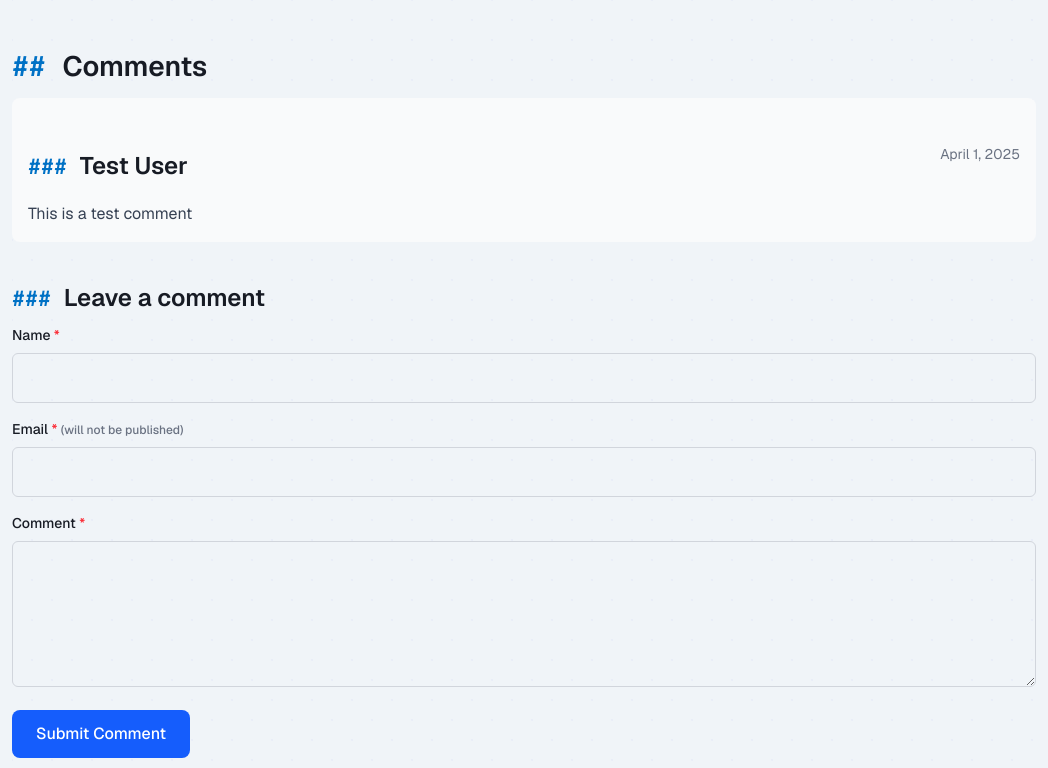
Scenario: Comments › submits the form with valid data
This screenshot has width=1048, height=768.
Fill out the form
Type "Jane Doe" into the field labelled "Name *" at (524, 378), box x1=12 y1=353 x2=1036 y2=403
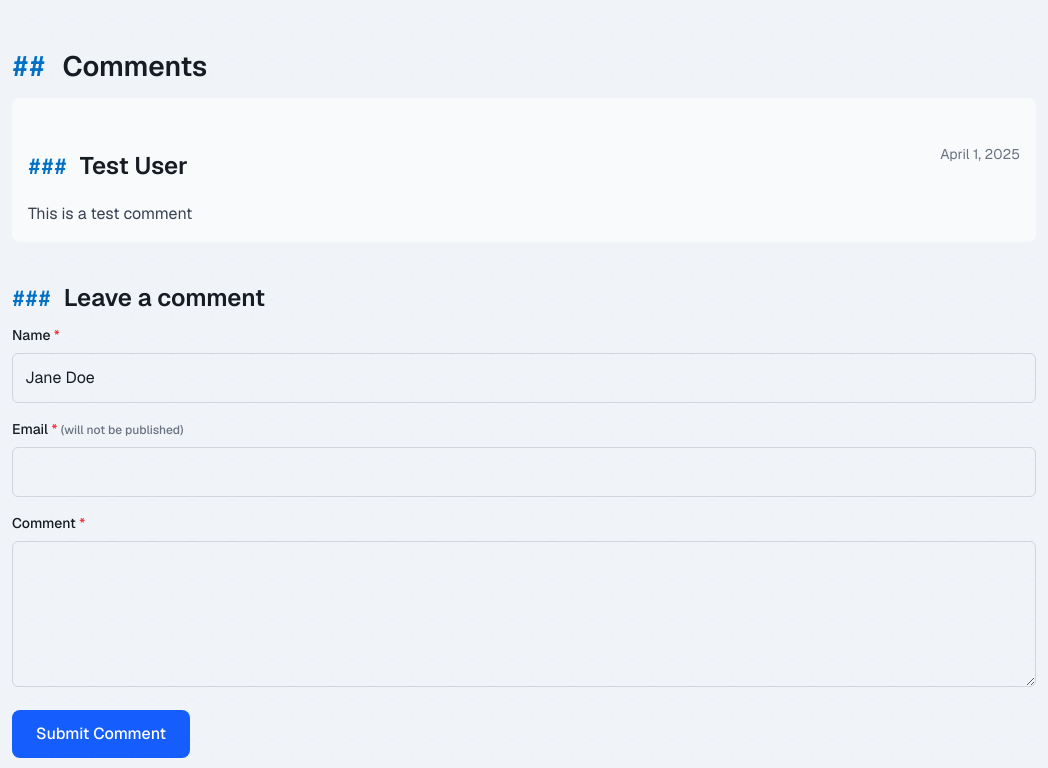
Type "jane@example.com" into the field labelled "Email * (will not be published)" at (524, 472), box x1=12 y1=447 x2=1036 y2=497
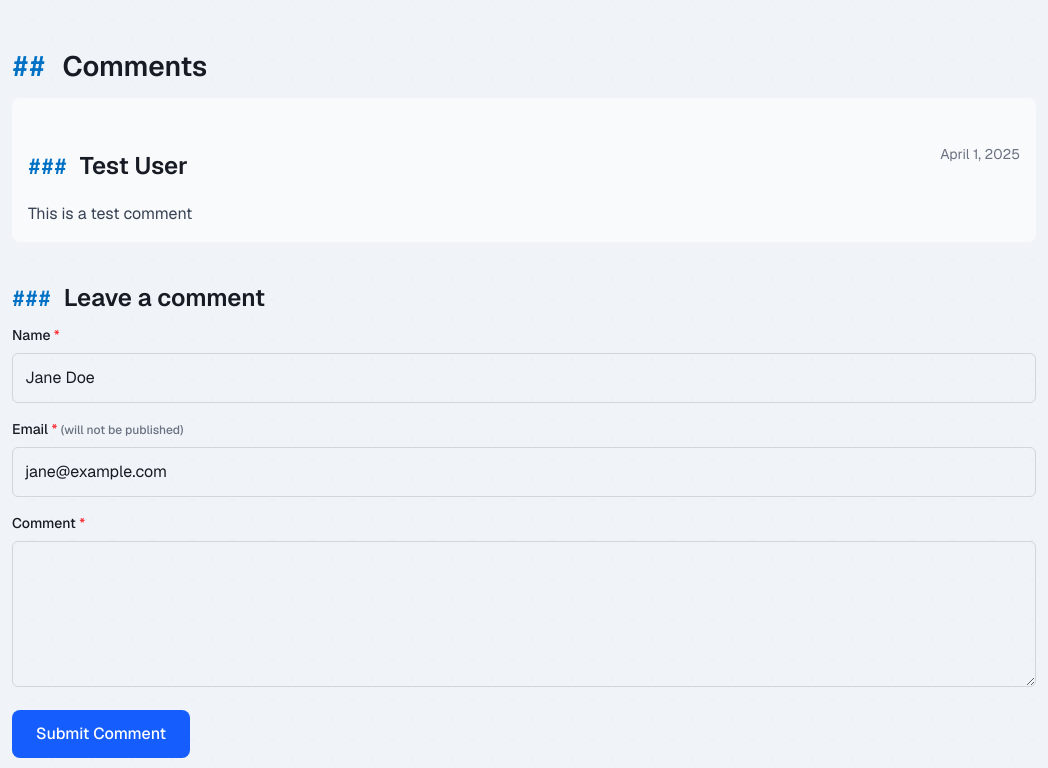
Type "This is a test comment submission." into the text box labelled "Comment *" at (524, 614), box x1=12 y1=541 x2=1036 y2=687
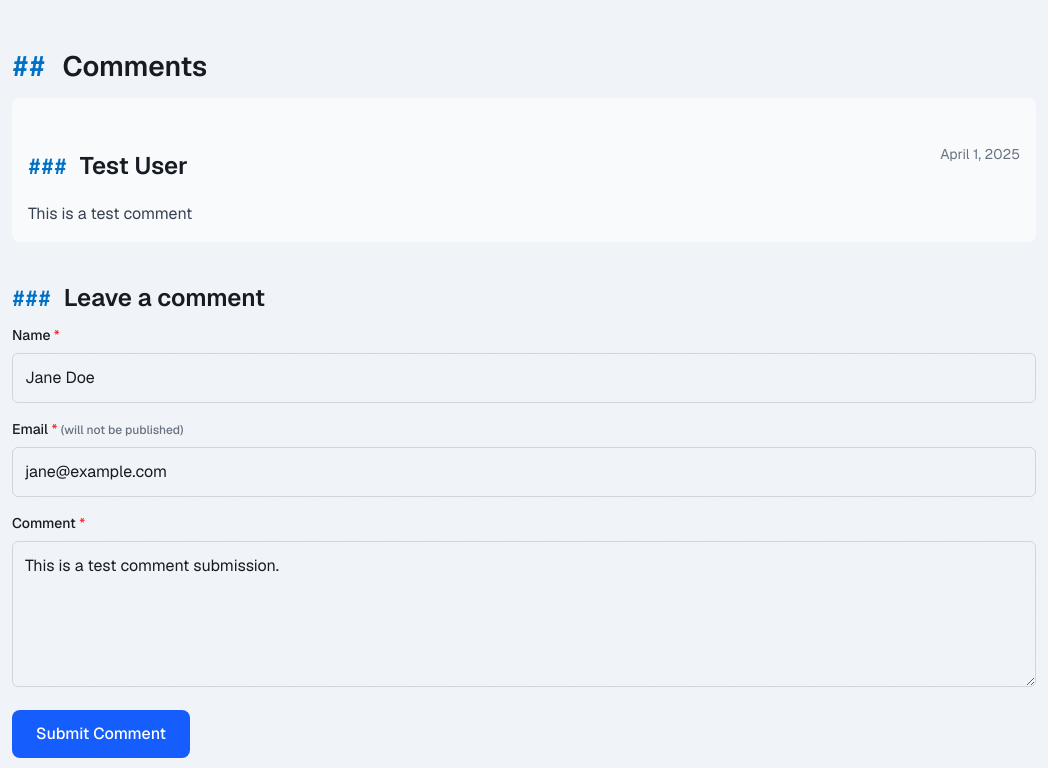
Submit the form
Click the button "Submit Comment" at (101, 734), box x1=12 y1=710 x2=190 y2=758
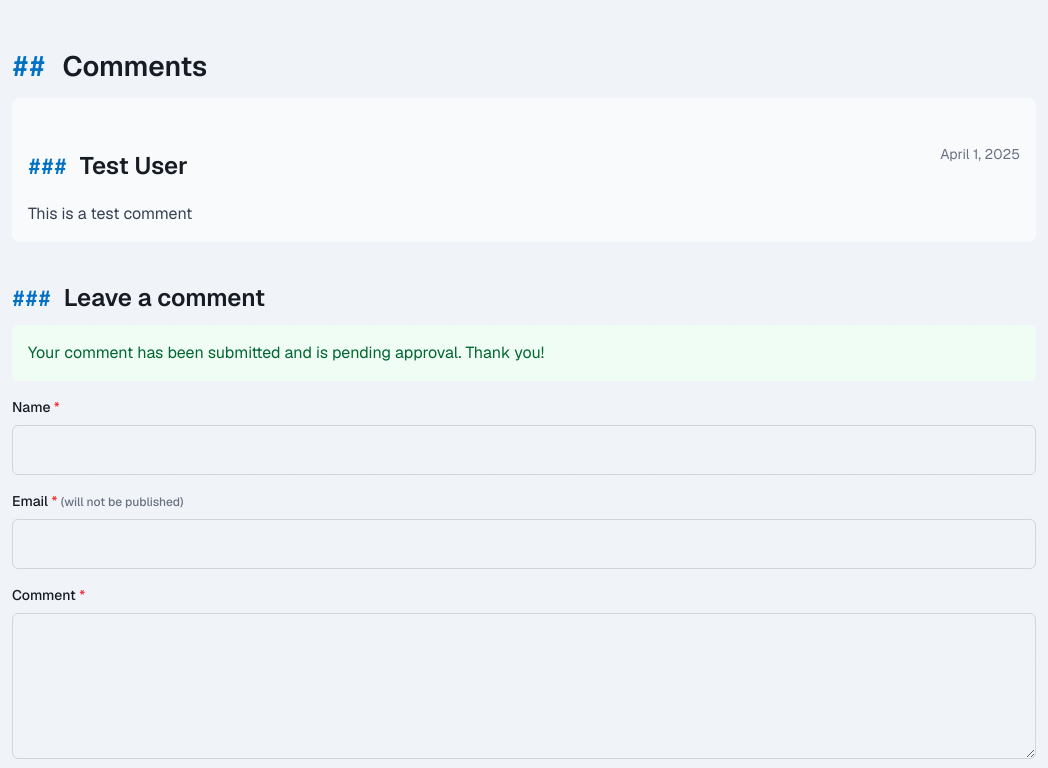
Check: the text "Your comment has been submitted" is shown, box x1=28 y1=342 x2=544 y2=363
